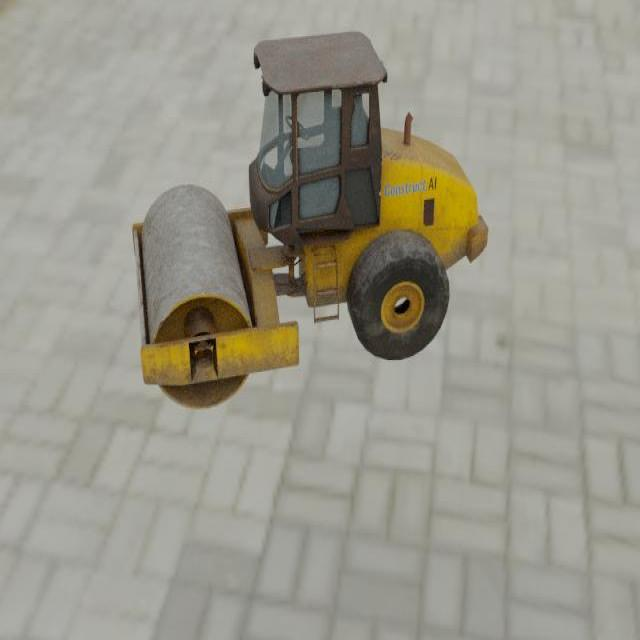Roller: (131, 29, 489, 410)
